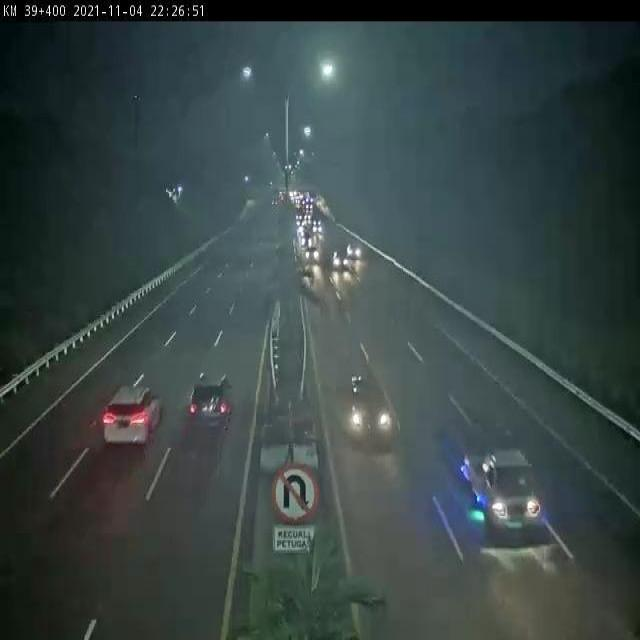car: (342, 374, 393, 449), (101, 388, 161, 447), (190, 370, 235, 434)
truck-m-: (459, 438, 540, 534)
